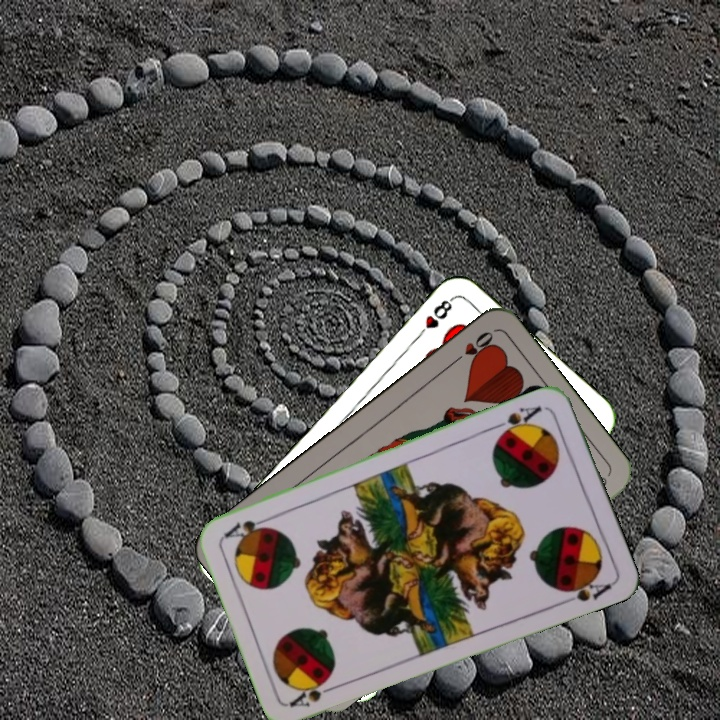H8: (412, 293, 457, 342)
HO: (446, 327, 496, 369)
SA: (491, 402, 545, 440), (286, 674, 343, 710)
